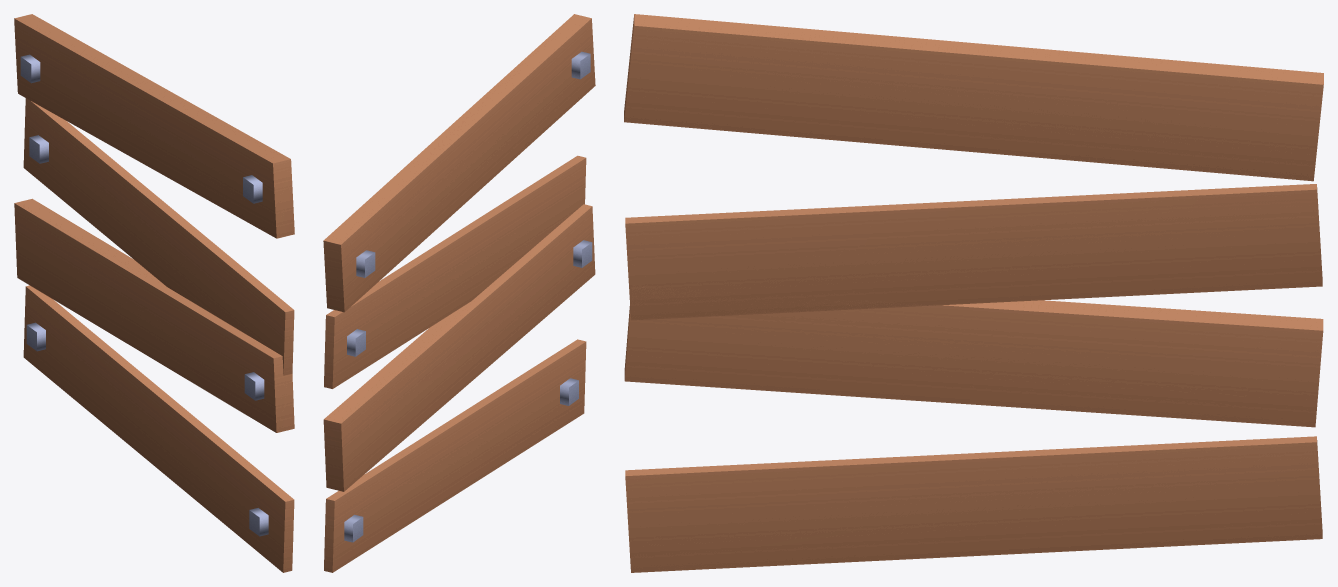
Rendered from barricade-window-b.glb.
3 views of the same model, side by side, from view 1: azimuth 30°, elevation 25°; view 2: azimuth 150°, elevation 25°; view 3: azimuth 270°, elevation 25° (orthographic). The views are drawn at different scales.
Visible parts, largest first — view 1: barricade-window-b; view 2: barricade-window-b; view 3: barricade-window-b.
Boxes of the visible parts, bbox=[...] form: barricade-window-b: bbox=[14, 14, 294, 572]; barricade-window-b: bbox=[323, 14, 595, 572]; barricade-window-b: bbox=[624, 14, 1323, 572].
Size of the model in its own units: 0.075 by 1.08 by 1.26.
Materials: 1 (1 with a texture image).
